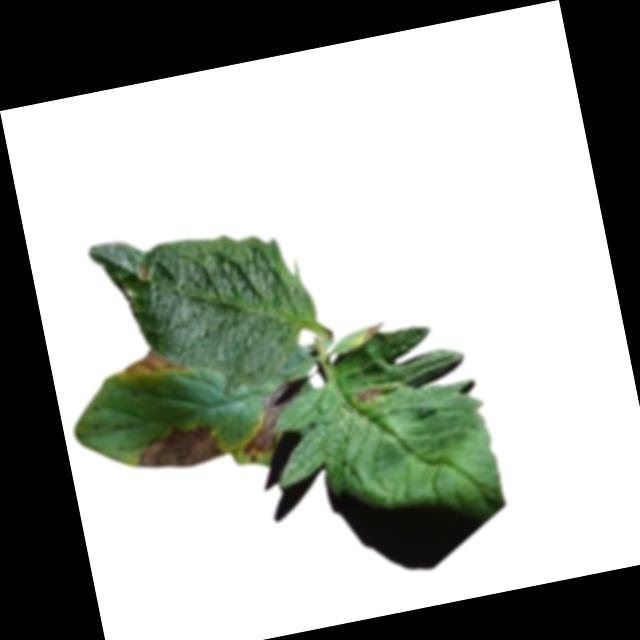Early_blight: (229, 376, 318, 465), (124, 416, 225, 479), (118, 341, 187, 382), (354, 382, 383, 406), (359, 319, 388, 342), (134, 263, 151, 281)
